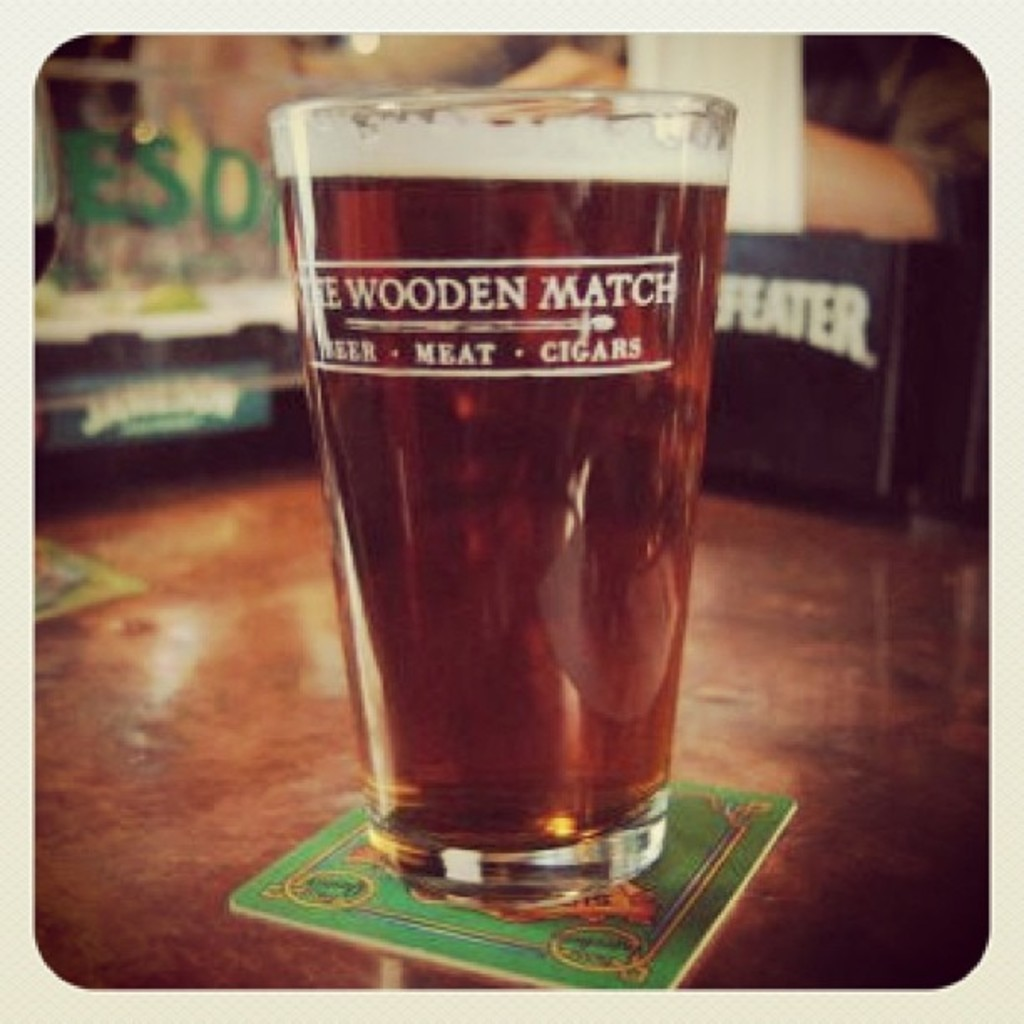Beer: (266, 88, 738, 896)
